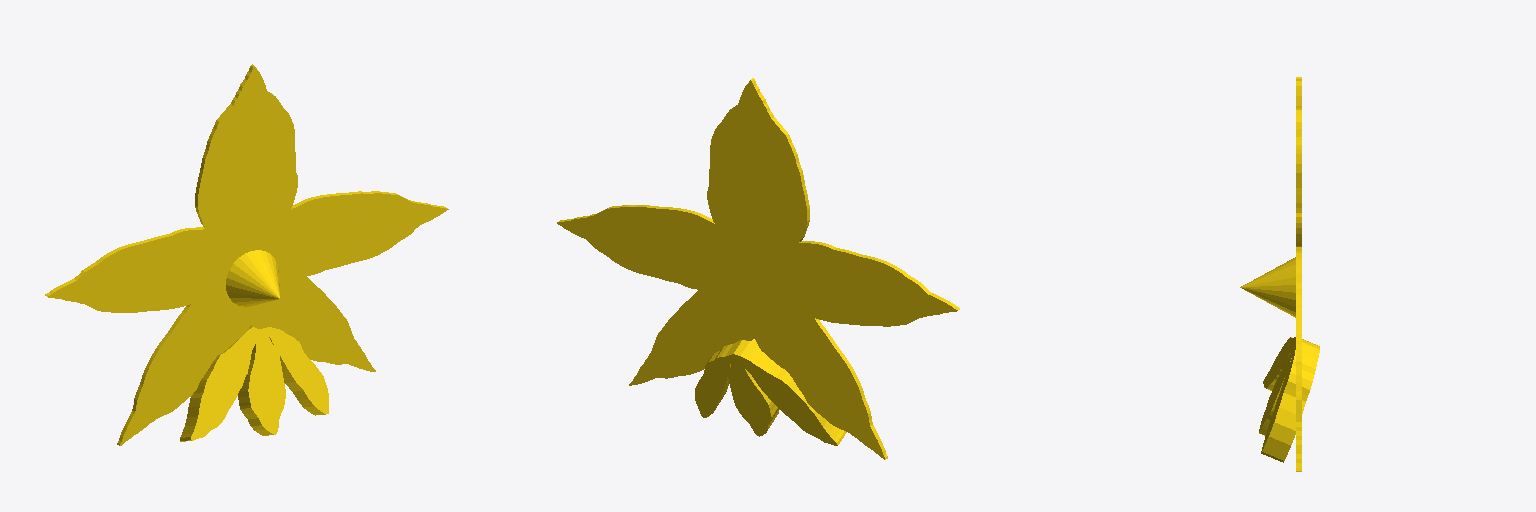
File: tinker.obj
The picture shows the model from 3 angles: view 1: azimuth 30°, elevation 25°; view 2: azimuth 150°, elevation 25°; view 3: azimuth 270°, elevation 25°; orthographic projection.
Parts seen in each view (by area): view 1: obj_0; view 2: obj_0; view 3: obj_0.
Part boxes in pixels (left/top/right/bottom): obj_0: left=45, top=64, right=448, bottom=445; obj_0: left=557, top=78, right=959, bottom=459; obj_0: left=1240, top=77, right=1319, bottom=471.
Bounding box in the file's own units: 48 × 41.71 × 8.34.